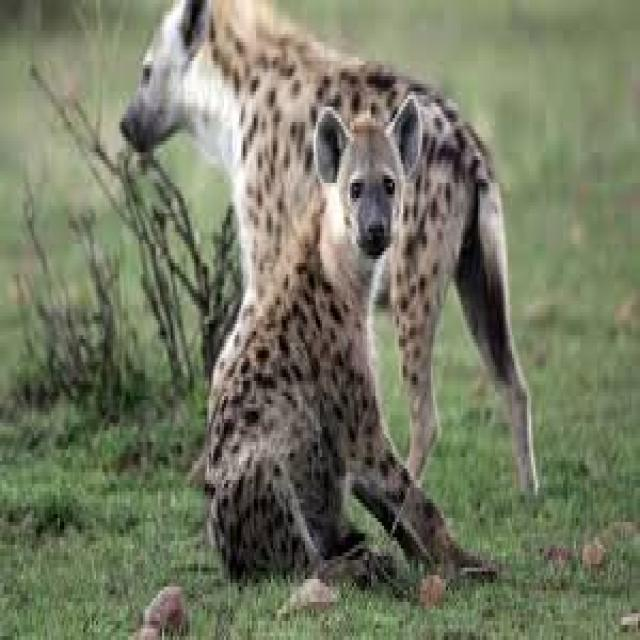Hyena: (112, 8, 552, 492), (207, 101, 436, 579)
